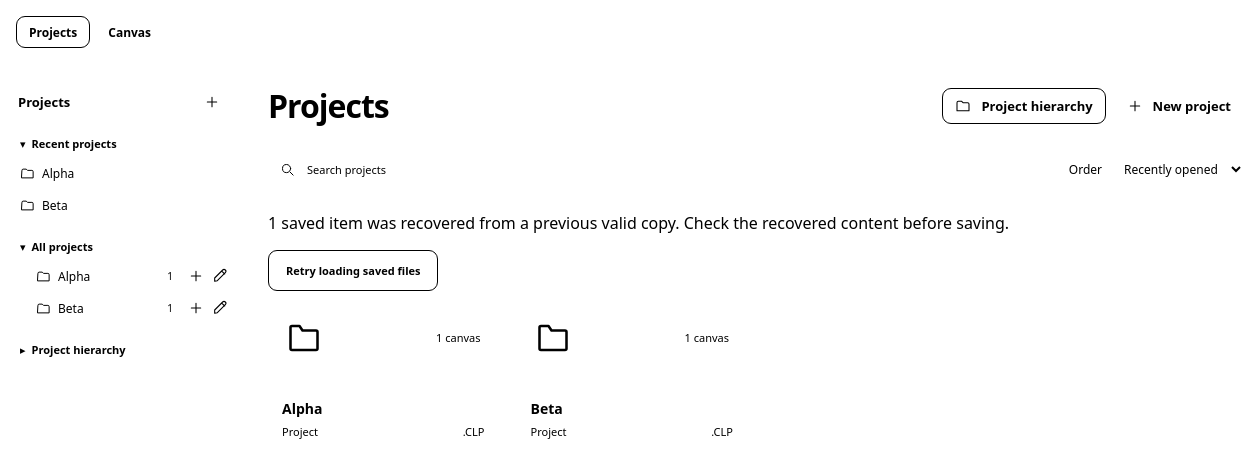
native Home catalog and recovery › shows a recovered-copy notice on project-only Home and clears it when the user retries successfully
The width and height of the screenshot is (1258, 469).
Expected: the button with aria-label "Browse project Alpha" is shown, top-left (268, 291), bottom-right (498, 453)
Expected: the text "recovered from a previous valid copy" is shown, top-left (268, 212), bottom-right (1009, 234)
What coordinates should you click on to do the following:
click the button "Retry loading saved files"
I would click on:
 (353, 270)
Its box is top-left (268, 250), bottom-right (438, 291).
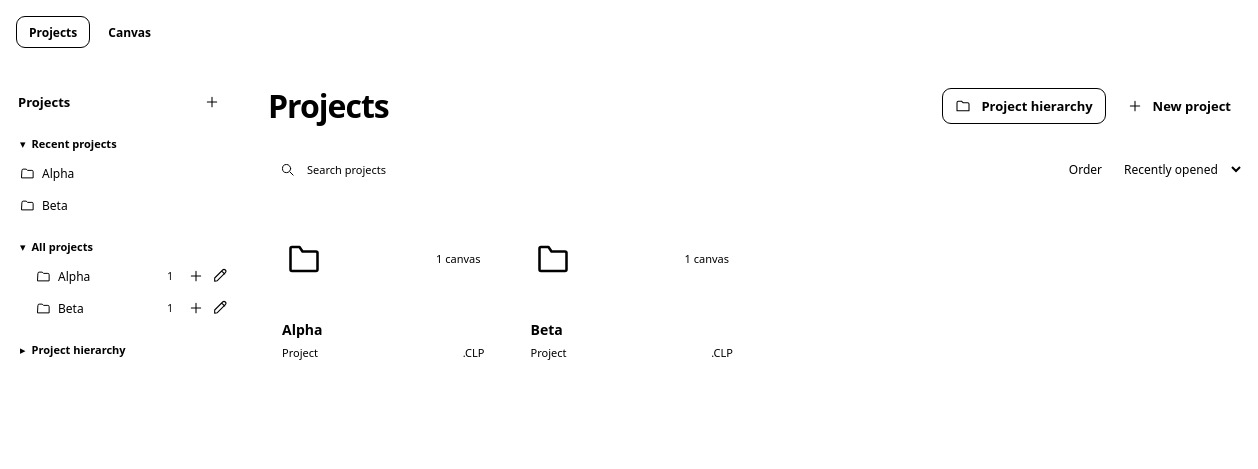
Now the button "Retry loading saved files" is gone
